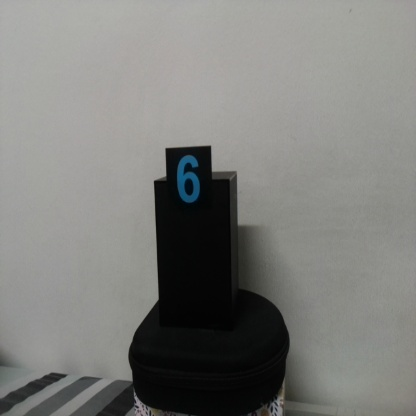id_6: (166, 147, 214, 220)
